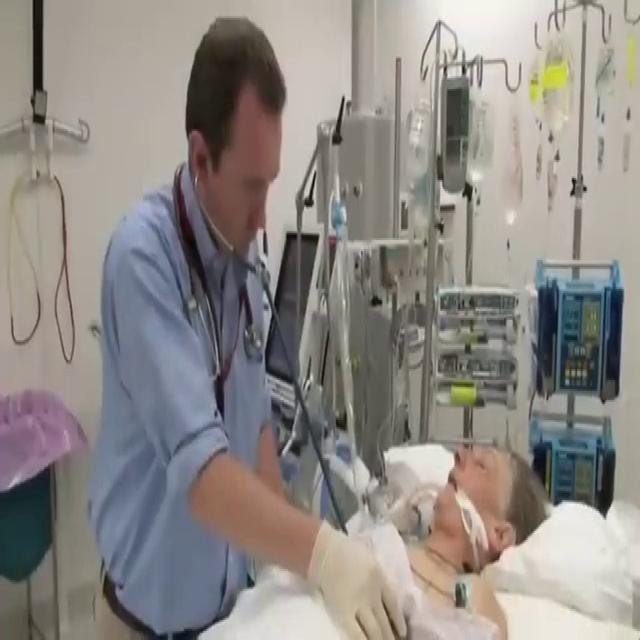doctor: (85, 15, 415, 638)
monitor: (534, 256, 623, 404), (264, 229, 320, 393), (439, 72, 470, 192)
patient: (194, 438, 548, 638)
